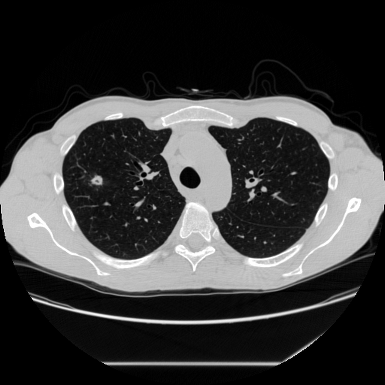nodule: (92, 175, 102, 185)
